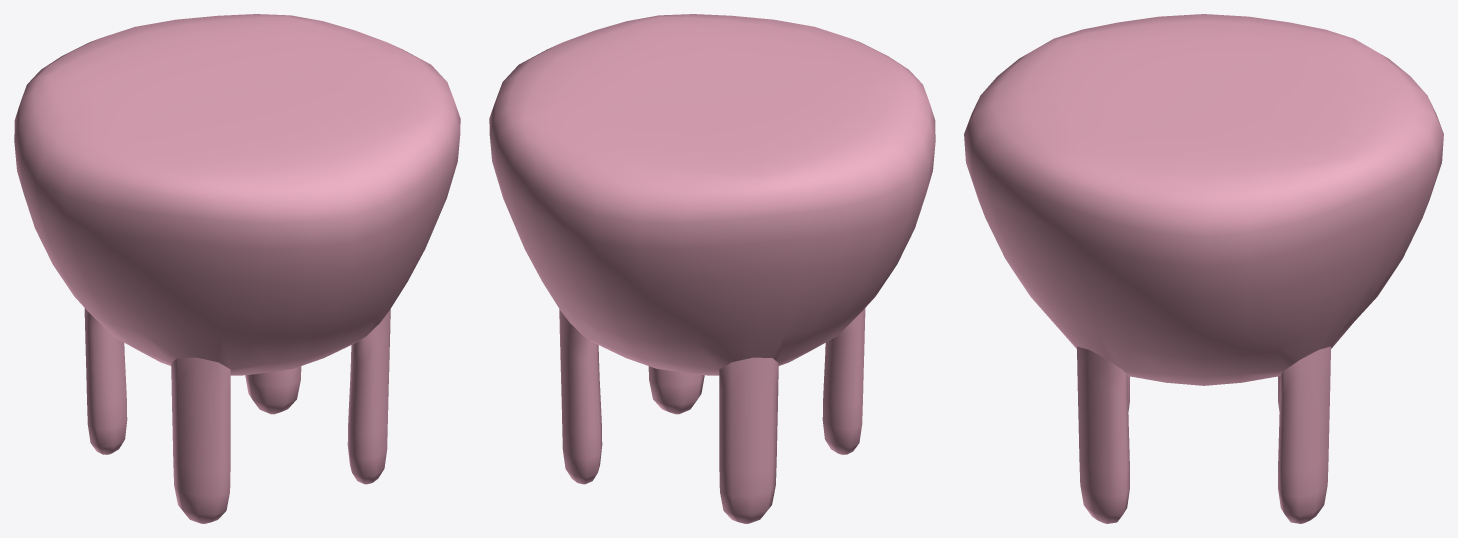
File: Uiers.fbx
The picture shows the model from 3 angles, left to right: view 1: azimuth 30°, elevation 25°; view 2: azimuth 150°, elevation 25°; view 3: azimuth 270°, elevation 25°; orthographic projection. The views are drawn at different scales.
Visible parts, largest first — view 1: Cube, Cube.004, Cube.003, Cube.001, Cube.002; view 2: Cube, Cube.001, Cube.002, Cube.004, Cube.003; view 3: Cube, Cube.002, Cube.003.
Part boxes in pixels (x1,y1,x2,y2): Cube: (14, 14, 460, 375); Cube.004: (171, 357, 230, 523); Cube.003: (347, 309, 390, 484); Cube.001: (84, 308, 127, 454); Cube.002: (245, 366, 301, 414); Cube: (489, 14, 935, 375); Cube.001: (719, 357, 778, 523); Cube.002: (559, 309, 602, 484); Cube.004: (822, 308, 865, 454); Cube.003: (648, 366, 704, 414); Cube: (964, 14, 1443, 385); Cube.002: (1278, 346, 1330, 523); Cube.003: (1077, 346, 1129, 523).
Size of the model in its own units: 207 by 185 by 208.
